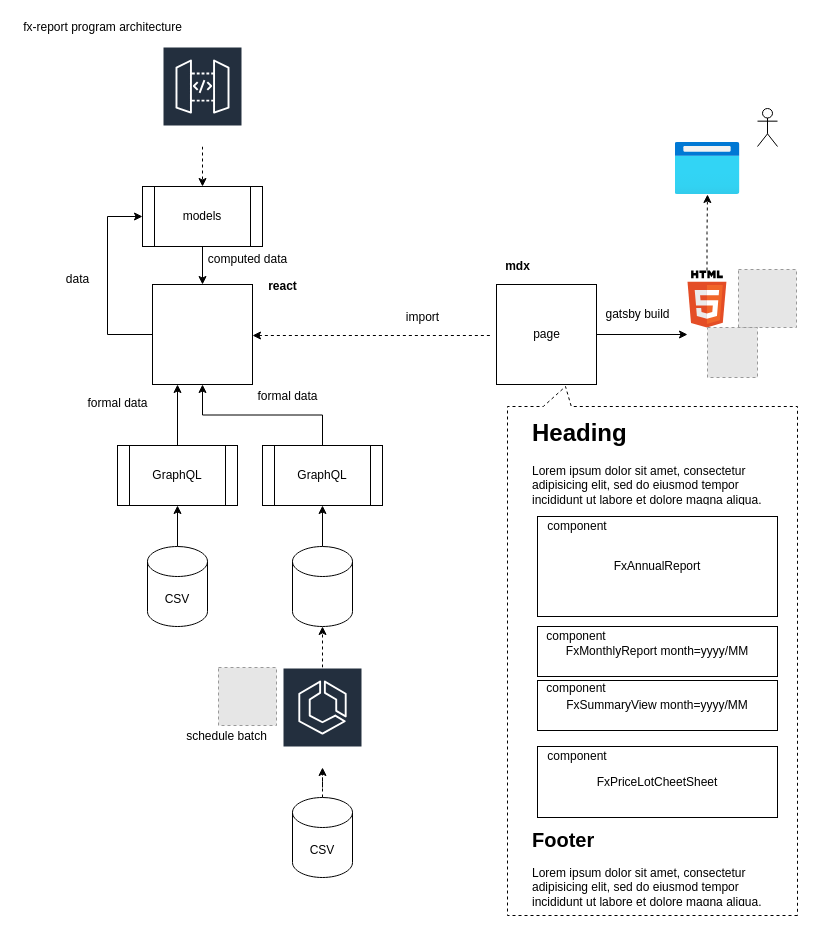
Some shapes in this 815 by 933 pixel diagram are drawn without their labels. Grey dashed boxes stand in for pictures. The centre of each missing label's shape, as x and y in pixels:
Actor: point 767,127
Amazon ECS: point 322,717
components: point 202,334
GraphCMS: point 322,586
Rest API: point 202,96
